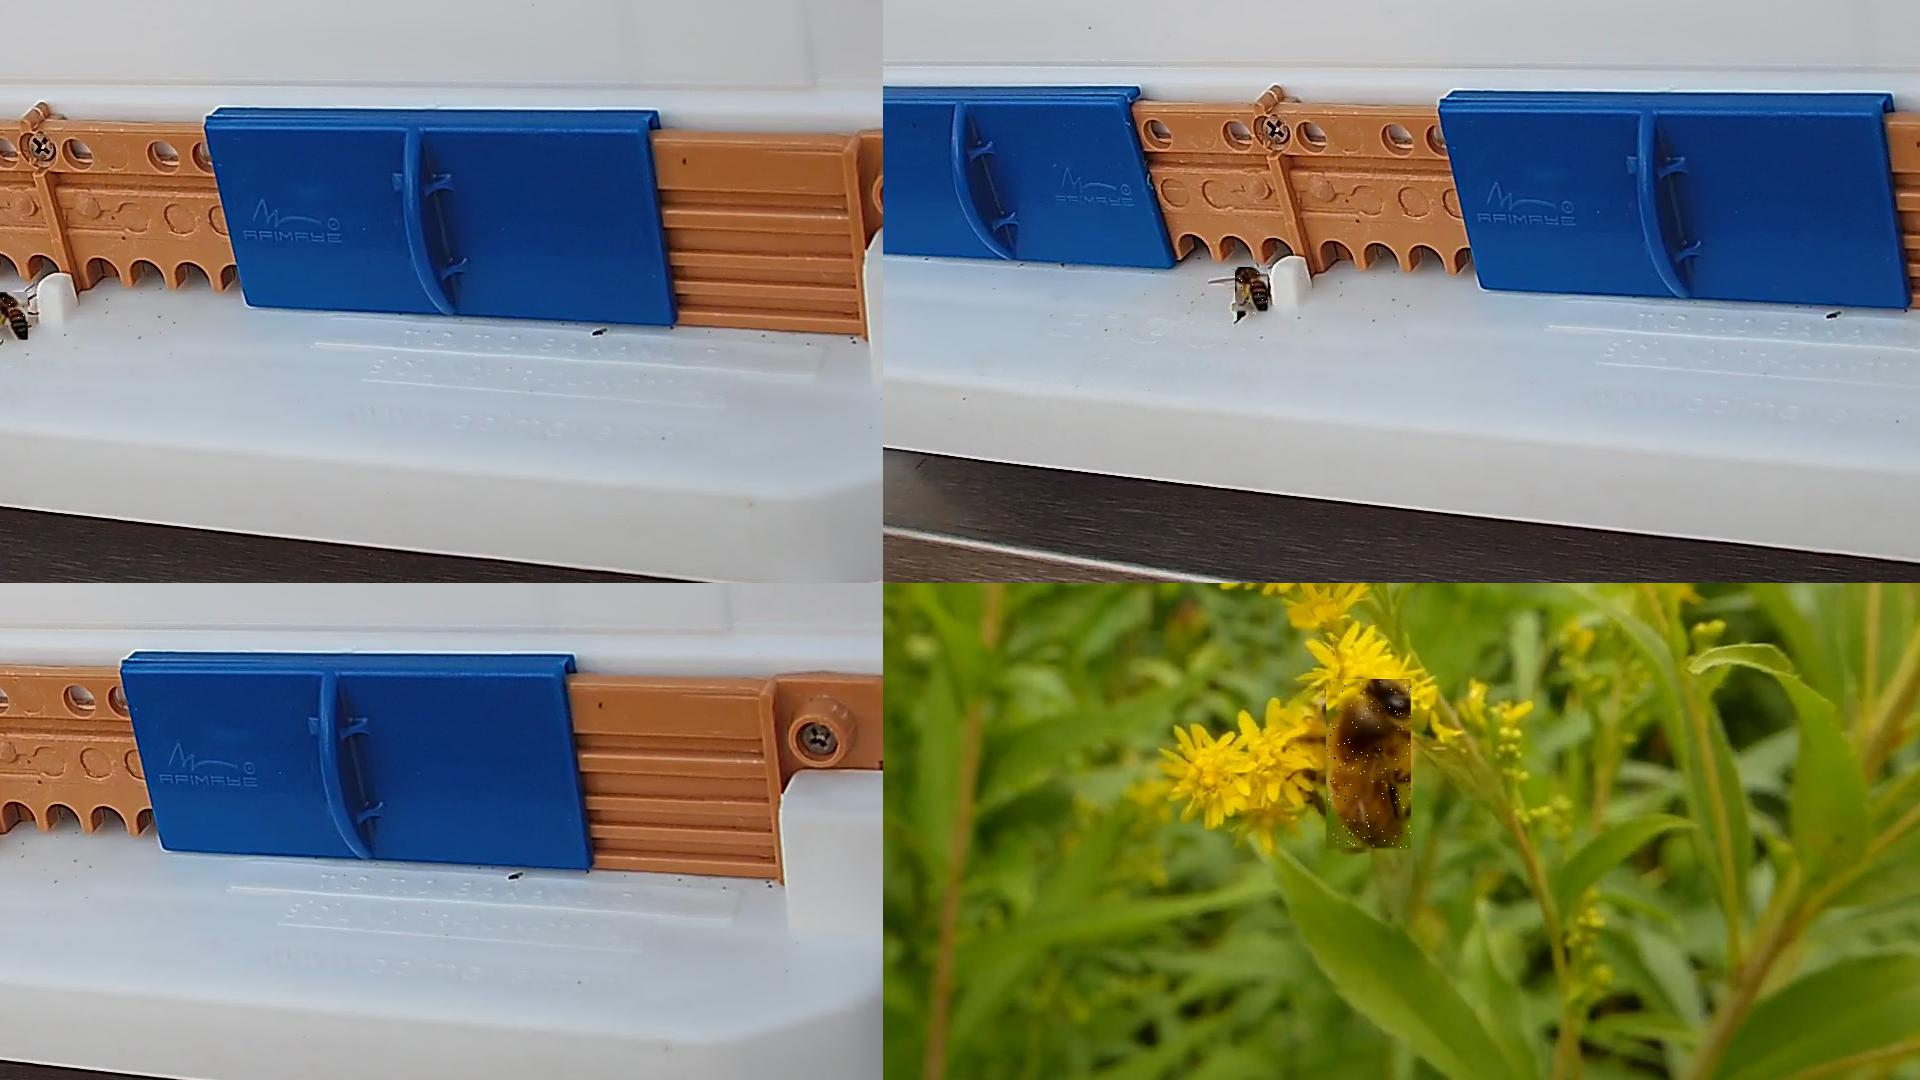bee: (1327, 680, 1412, 853)
pollenbee: (1236, 268, 1269, 315), (0, 291, 30, 342)
